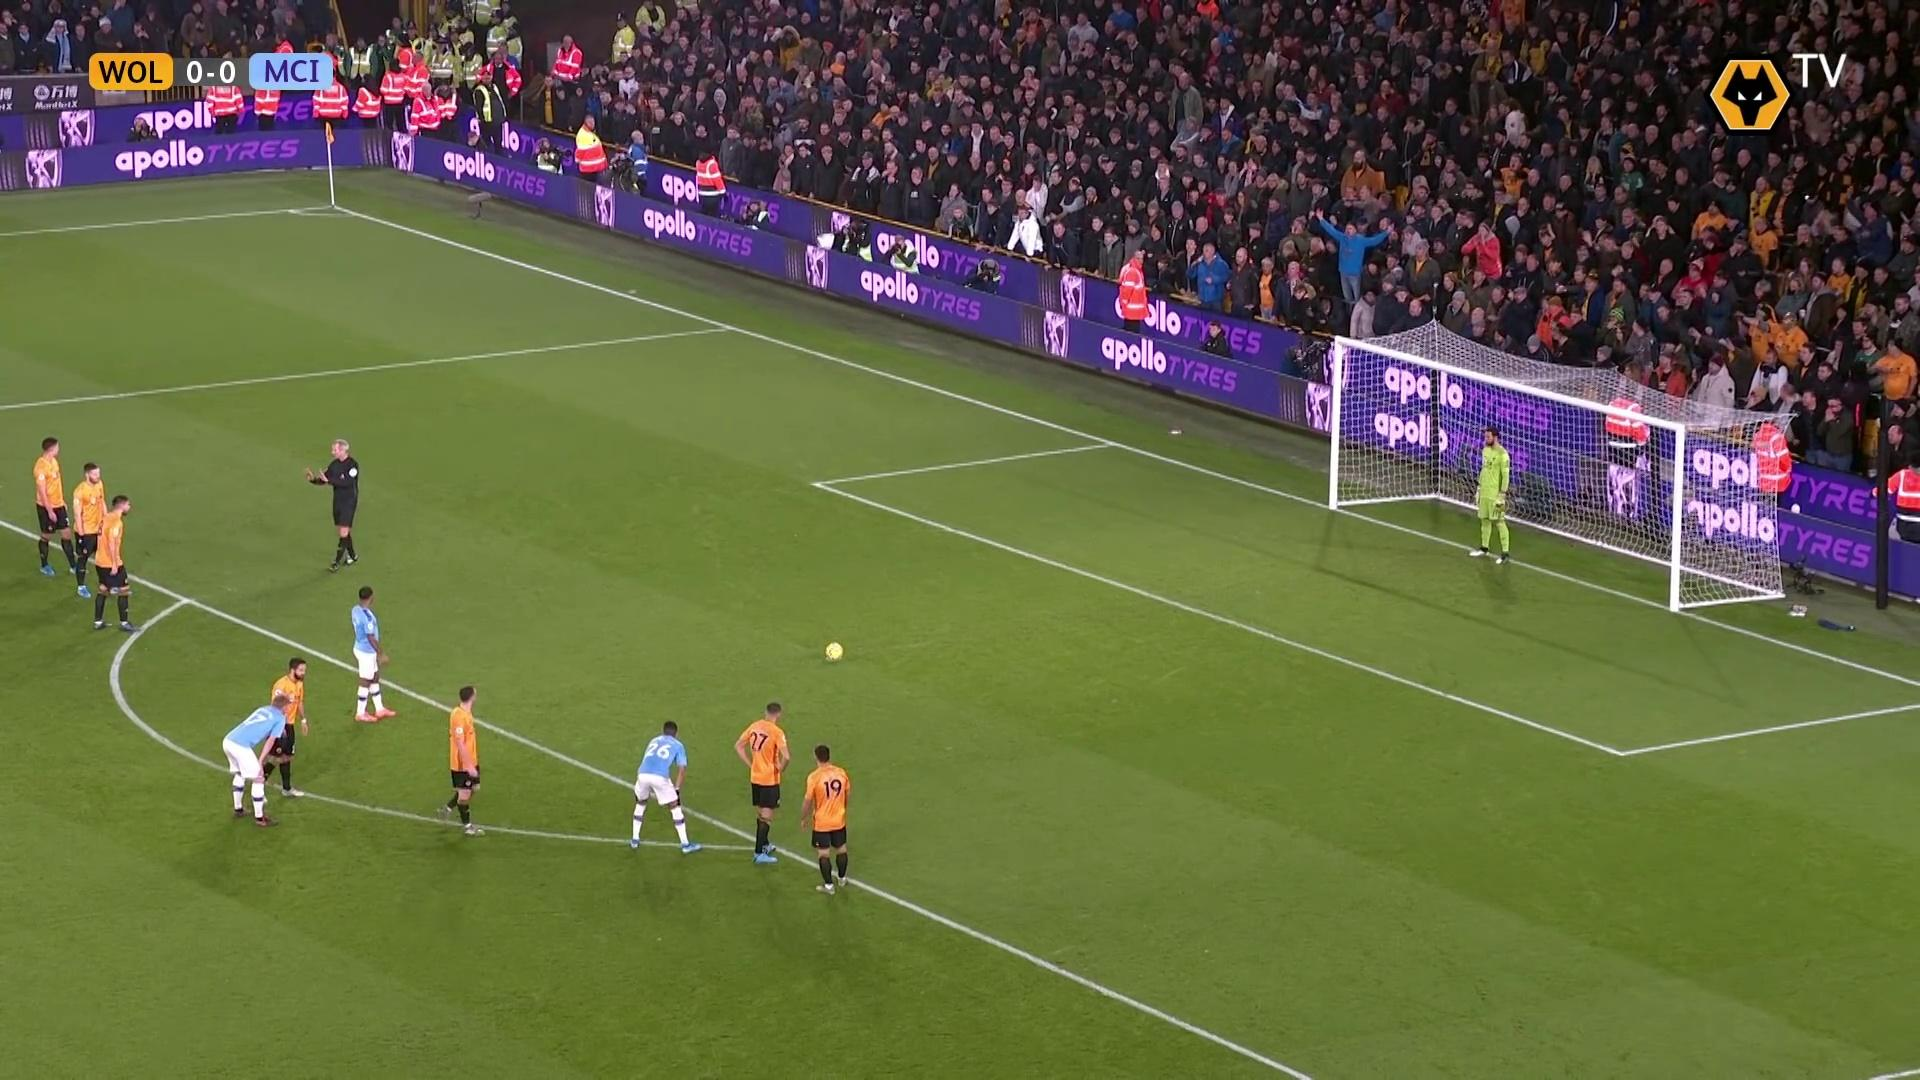ball: (824, 642, 844, 665)
